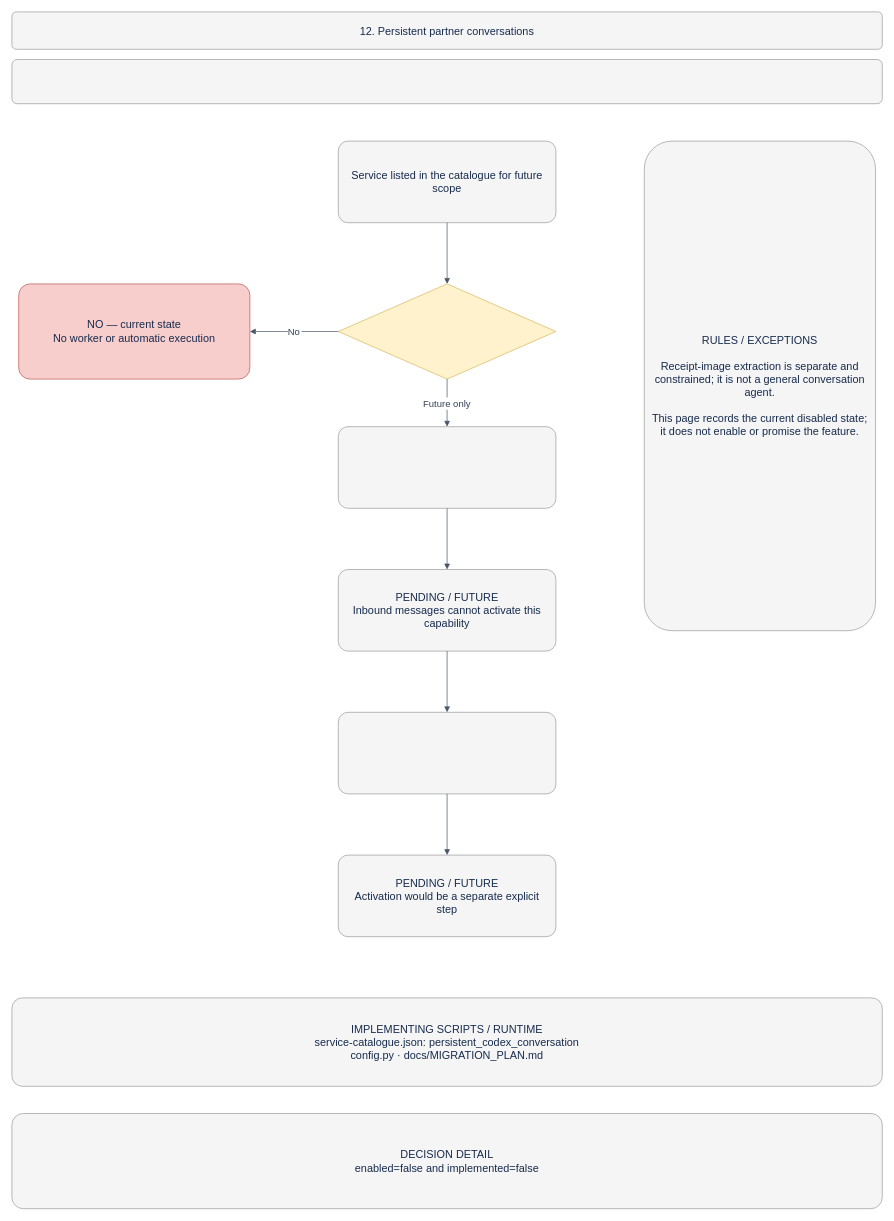
This 894x1221 diagram has some shape labels left out. The centre of each missing label's shape, as x and y in pixels:
PENDING / FUTURE Future work needs shared scripts, tests and owner scope: [447,753]
PENDING / FUTURE No business worker or automatic execution: [447,467]
Service implemented and enabled?: [447,331]
STATUS: DISABLED | Return to all services: [446,81]
